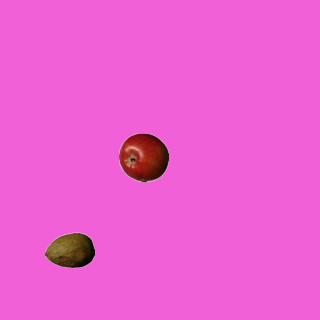Apple Braeburn: (118, 132, 168, 182)
Papaya: (44, 225, 94, 275)
